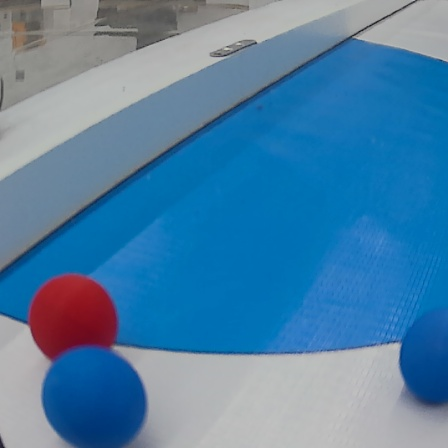blue: (39, 344, 154, 444), (402, 299, 448, 405)
blue_base: (5, 31, 448, 365)
red: (28, 270, 122, 365)
